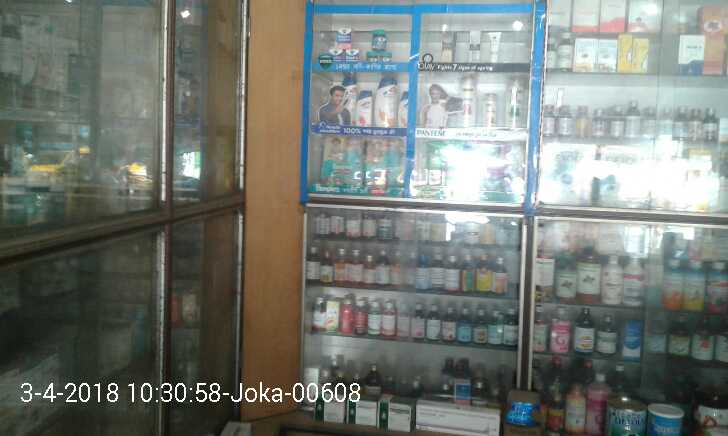vicks: (326, 25, 395, 65)
